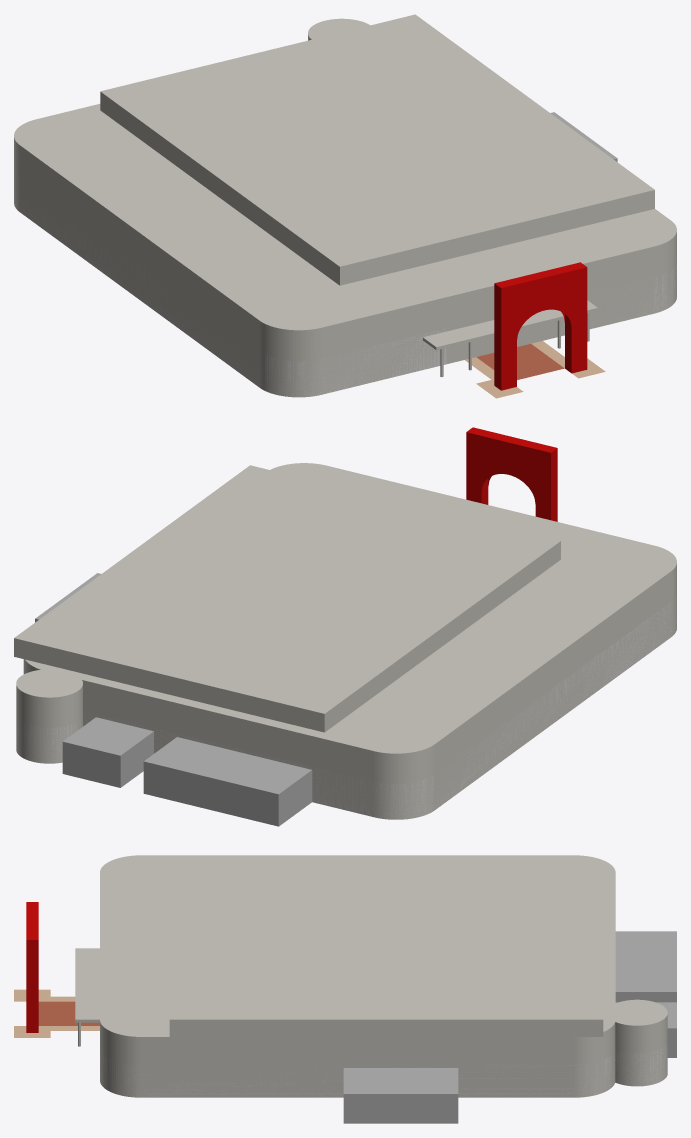
Rendered from P2-A-901_RevH_massing.obj.
The picture shows the model from 3 angles, top to bottom: view 1: azimuth 30°, elevation 25°; view 2: azimuth 150°, elevation 25°; view 3: azimuth 270°, elevation 25°; orthographic projection. The views are drawn at different scales.
Parts seen in each view (by area): view 1: exterior_arena_volume, exterior_building_ring, cutaway_ring_cut_0, exterior_portal_spandrel, exterior_portal_pier_w, exterior_portal_pier_e, exterior_canopy, cutaway_ring_cut_3, exterior_ground_walk_2, cutaway_ring_cut_4, exterior_st2_drum, exterior_ground_band_0 (+1 smaller); view 2: exterior_arena_volume, exterior_building_ring, exterior_storage_annex, cutaway_ring_cut_0, exterior_st2_drum, exterior_mech_elec_bay, exterior_portal_spandrel, exterior_portal_pier_w, exterior_portal_pier_e, cutaway_st2_drum_cut; view 3: exterior_arena_volume, exterior_building_ring, exterior_restroom_bumpout, exterior_st2_drum, exterior_storage_annex, exterior_canopy, cutaway_ring_cut_2, exterior_portal_pier_e, cutaway_st2_drum_cut, exterior_ground_walk_2, exterior_mech_elec_bay, exterior_ground_band_1 (+1 smaller).
Boxes of the visible parts, left/top/right/bottom form: exterior_arena_volume: left=100, top=14, right=654, bottom=285; exterior_building_ring: left=14, top=104, right=676, bottom=397; cutaway_ring_cut_0: left=14, top=172, right=391, bottom=396; exterior_portal_spandrel: left=510, top=266, right=571, bottom=339; exterior_portal_pier_w: left=494, top=279, right=516, bottom=390; exterior_portal_pier_e: left=565, top=262, right=587, bottom=373; exterior_canopy: left=423, top=300, right=597, bottom=350; cutaway_ring_cut_3: left=392, top=328, right=446, bottom=377; exterior_ground_walk_2: left=476, top=344, right=564, bottom=379; cutaway_ring_cut_4: left=561, top=269, right=673, bottom=335; exterior_st2_drum: left=308, top=18, right=369, bottom=40; exterior_ground_band_0: left=465, top=357, right=523, bottom=398; exterior_arena_volume: left=14, top=465, right=560, bottom=732; exterior_building_ring: left=23, top=463, right=676, bottom=819; exterior_storage_annex: left=143, top=737, right=312, bottom=826; cutaway_ring_cut_0: left=304, top=596, right=676, bottom=819; exterior_st2_drum: left=16, top=670, right=82, bottom=763; exterior_mech_elec_bay: left=62, top=717, right=153, bottom=787; exterior_portal_spandrel: left=481, top=431, right=541, bottom=503; exterior_portal_pier_w: left=535, top=444, right=557, bottom=521; exterior_portal_pier_e: left=466, top=427, right=488, bottom=504; cutaway_st2_drum_cut: left=16, top=716, right=82, bottom=763; exterior_arena_volume: left=169, top=880, right=603, bottom=1036; exterior_building_ring: left=100, top=855, right=615, bottom=1097; exterior_restroom_bumpout: left=343, top=1068, right=458, bottom=1123; exterior_st2_drum: left=615, top=999, right=667, bottom=1086; exterior_storage_annex: left=615, top=931, right=676, bottom=1002; exterior_canopy: left=75, top=948, right=99, bottom=1022; cutaway_ring_cut_2: left=110, top=1059, right=587, bottom=1097; exterior_portal_pier_e: left=26, top=933, right=38, bottom=1032; cutaway_st2_drum_cut: left=615, top=1043, right=667, bottom=1086; exterior_ground_walk_2: left=38, top=1001, right=99, bottom=1025; exterior_mech_elec_bay: left=615, top=1002, right=676, bottom=1057; exterior_ground_band_1: left=14, top=1026, right=99, bottom=1037.
Size of the model in its own units: 240 by 50 by 324.
